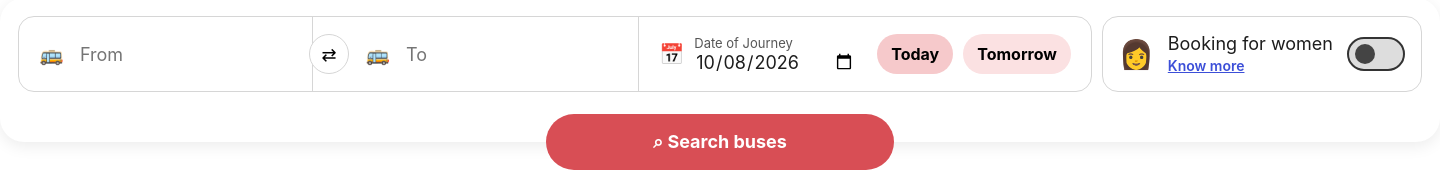
Test case: SearchCard › swaps the selected cities and displayed text between From and To
This screenshot has width=1440, height=187.
In the dropdown labelled "From": (185,54) [78, 42, 292, 66], type "pu"
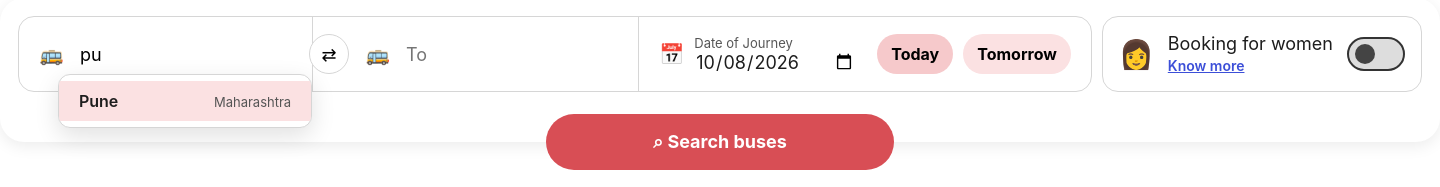
Click the option "Pune Maharashtra": (185,100) [59, 80, 311, 120]
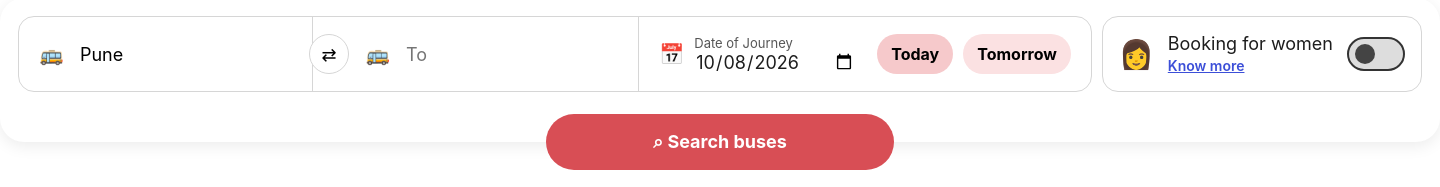
In the dropdown labelled "To": (511,54) [404, 42, 618, 66], type "ben"
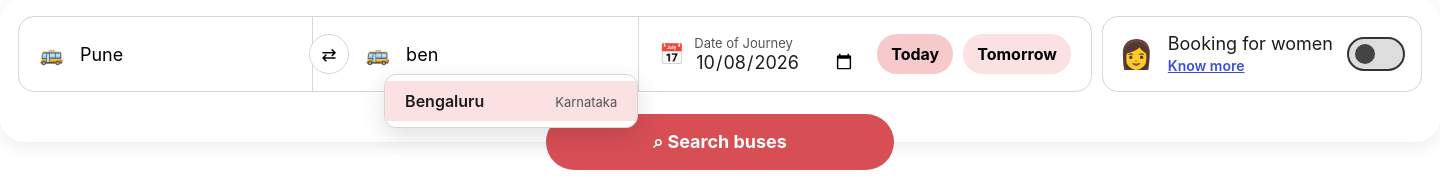
Click the option "Bengaluru Karnataka": (511,100) [385, 80, 637, 120]
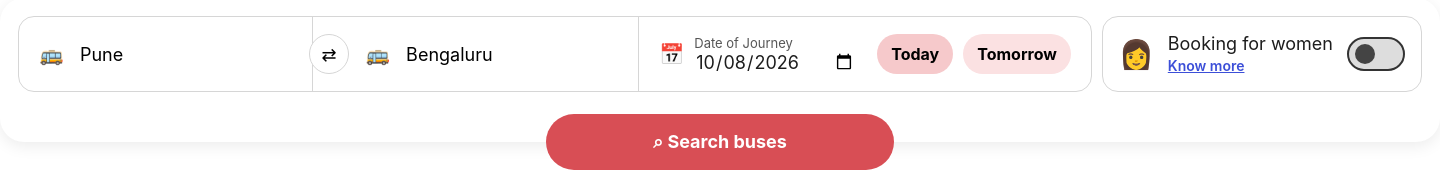
Click the button named "Swap From and To": (329,54) [309, 34, 349, 74]
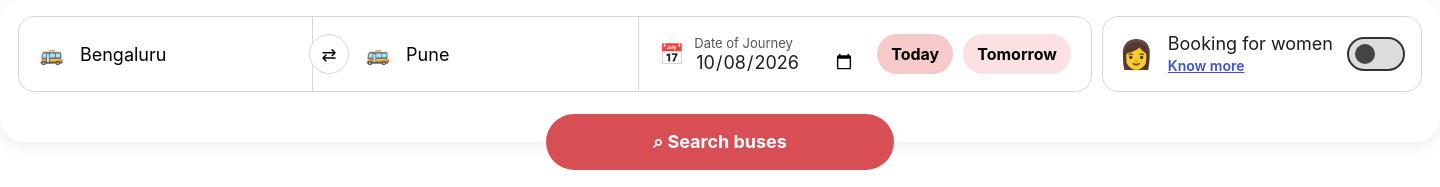
Check: the dropdown named "From" holds "Bengaluru", box [78, 42, 292, 66]
Check: the dropdown named "To" holds "Pune", box [404, 42, 618, 66]
